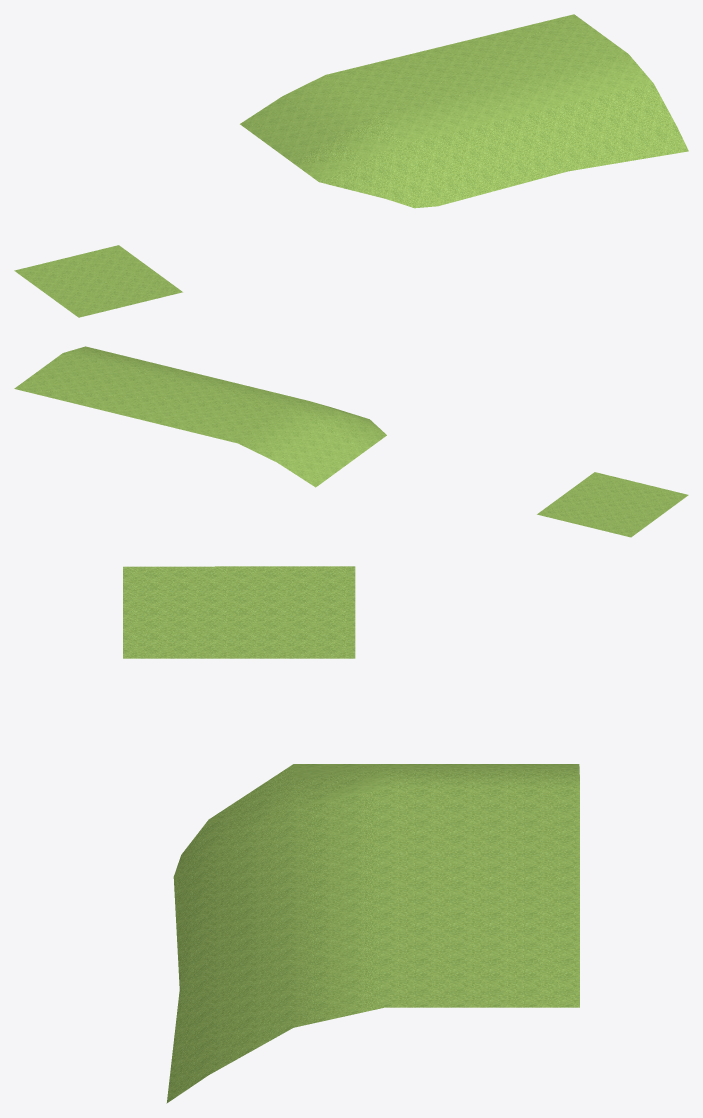
The model's file is kd_stage_1364a3_11_35.glb.
3 renders of one model, top to bottom at view 1: azimuth 30°, elevation 25°; view 2: azimuth 150°, elevation 25°; view 3: azimuth 270°, elevation 25°, orthographic. The views are drawn at different scales.
Parts seen in each view (by area): view 1: kd_stage_1364a3_11_35; view 2: kd_stage_1364a3_11_35; view 3: kd_stage_1364a3_11_35.
Part boxes in pixels (left/top/right/bottom): kd_stage_1364a3_11_35: left=14, top=14, right=688, bottom=317; kd_stage_1364a3_11_35: left=14, top=346, right=688, bottom=537; kd_stage_1364a3_11_35: left=123, top=566, right=579, bottom=1103.
Bounding box in the file's own units: 38.71 × 3.49 × 13.67.
Materials: 1 (1 with a texture image).
